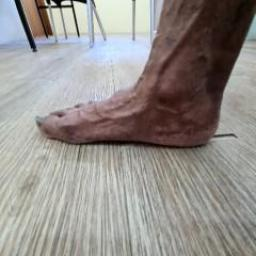Medial View -Right Foot-: (16, 51, 249, 163)
